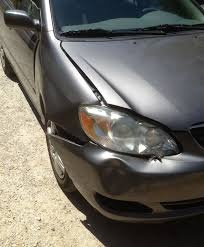Dent: (41, 72, 95, 154), (97, 156, 134, 195), (147, 154, 167, 168)
